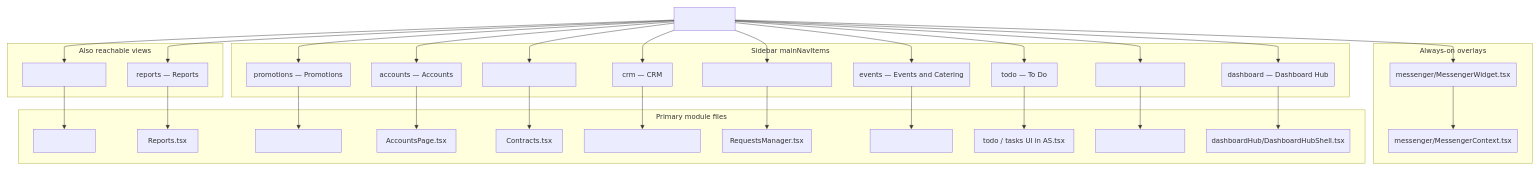
Some shapes in this 1540 by 171 pixel diagram are drawn without their labels. Each missing label, with the centre of its shape:
"AS.tsx shell" goes at point (704, 19).
"calendar UI in AS.tsx" goes at point (1140, 140).
"calendar — Calendar" goes at point (1140, 74).
"contracts — Contracts" goes at point (529, 74).
"CRM.tsx + CRMProfileView.tsx" goes at point (642, 140).
"events UI in AS.tsx" goes at point (911, 140).
"PromotionsPage.tsx" goes at point (298, 140).
"requests — Requests Management" goes at point (767, 74).
"settings — Settings" goes at point (64, 74).
"Settings.tsx" goes at point (64, 140).
